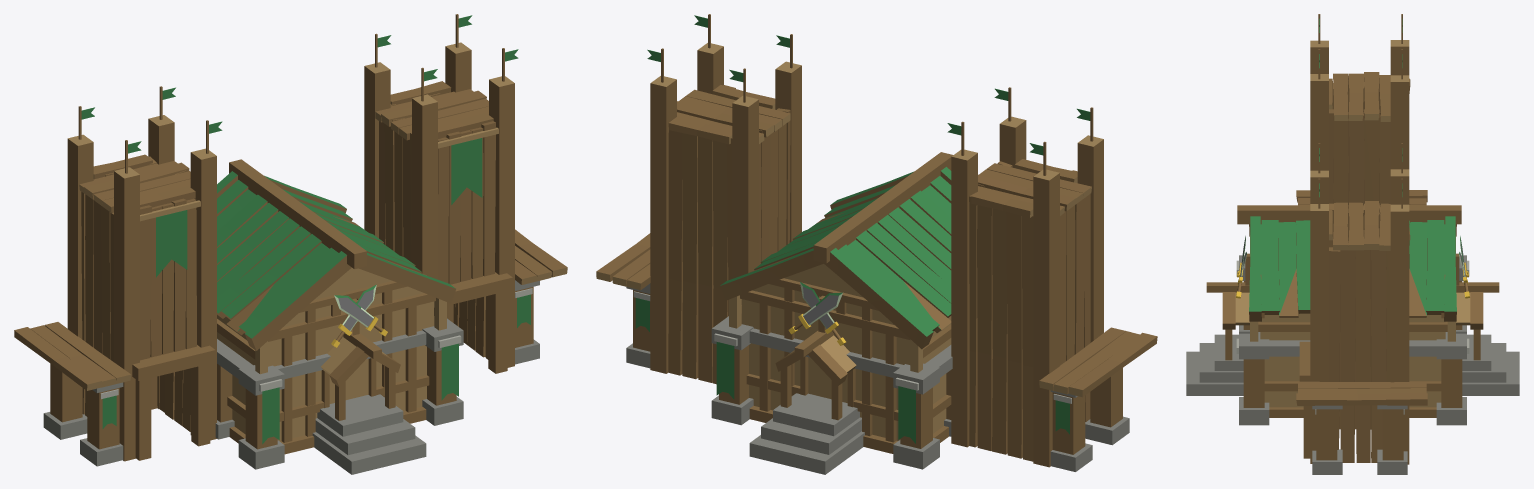
The picture shows the model from 3 angles, left to right: view 1: azimuth 30°, elevation 25°; view 2: azimuth 150°, elevation 25°; view 3: azimuth 270°, elevation 25°; orthographic projection. The views are drawn at different scales.
Parts seen in each view (by area): view 1: Barracks_FirstAge_Level3; view 2: Barracks_FirstAge_Level3; view 3: Barracks_FirstAge_Level3.
Part boxes in pixels (bbox=[...]): Barracks_FirstAge_Level3: bbox=[14, 14, 567, 474]; Barracks_FirstAge_Level3: bbox=[596, 14, 1157, 474]; Barracks_FirstAge_Level3: bbox=[1186, 14, 1519, 474].
Bounding box in the file's own units: 3.6 × 2.27 × 2.42.
